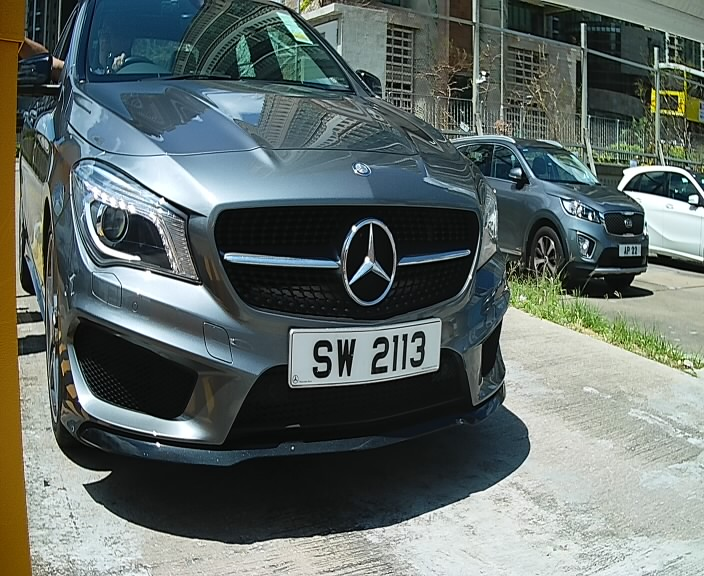Car: (16, 2, 534, 487)
License Plate: (272, 315, 461, 398)
